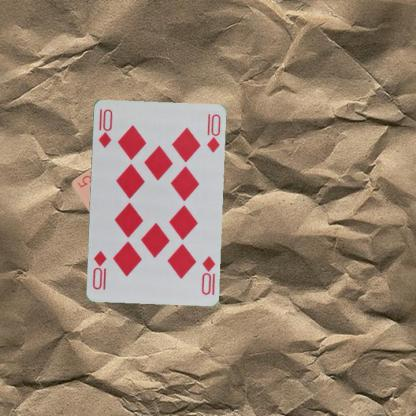10d: (198, 253, 216, 296), (96, 107, 113, 148)
